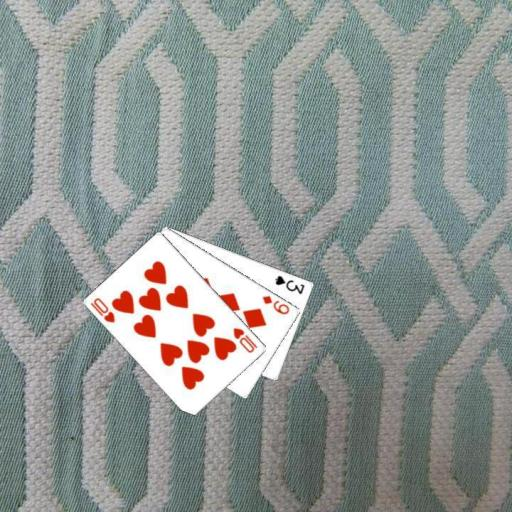card-corner: (230, 324, 259, 354), (88, 294, 116, 324), (272, 272, 306, 296), (260, 292, 292, 316)
